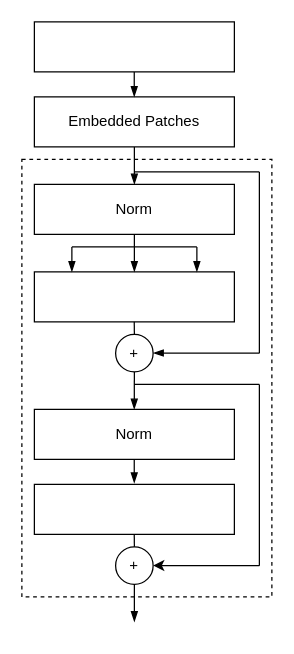
Some shapes in this 294 by 654 pixel diagram are drawn without their labels. The shapes that lost their labels are listed below. From the top down, each one's box as (x1, y1, x2, y2) in pixels, then its label:
(33, 21, 234, 72): Linear Projection
(33, 271, 234, 322): Multi-Head Attention
(33, 483, 234, 534): MLP
